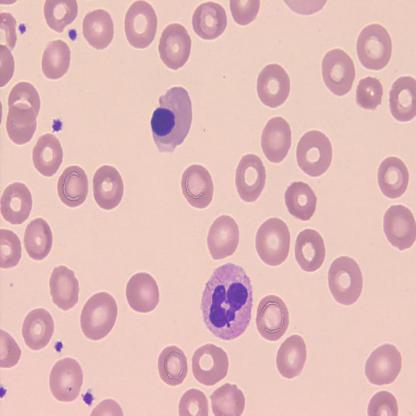NRC: (150, 85, 194, 155)
